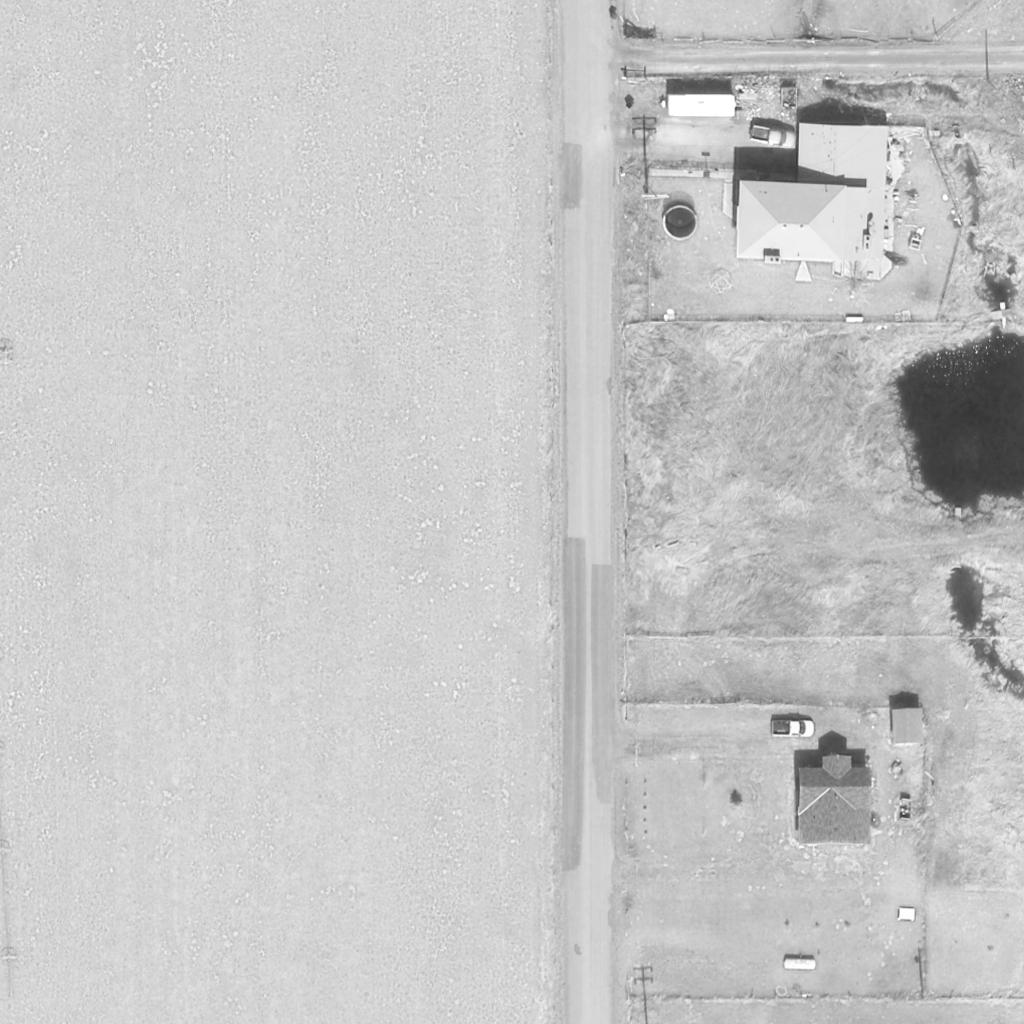vehicle: (659, 93, 739, 121), (748, 124, 796, 152), (769, 719, 817, 737)
